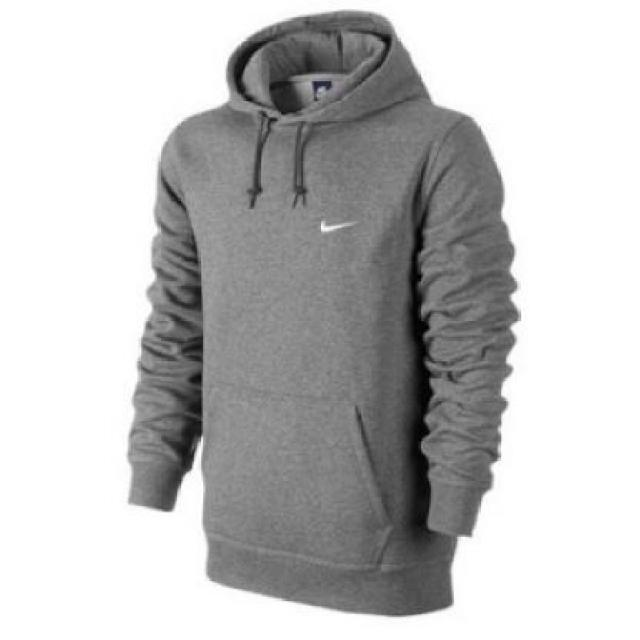Nike: (316, 216, 355, 230)
